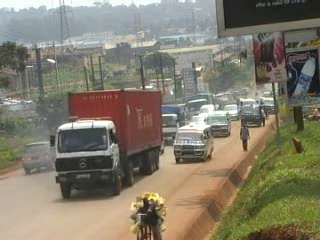Car: (19, 138, 56, 176), (195, 102, 217, 117), (186, 113, 209, 127), (223, 103, 239, 121)
